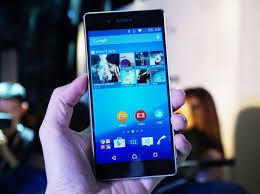sony: (82, 5, 180, 182)
